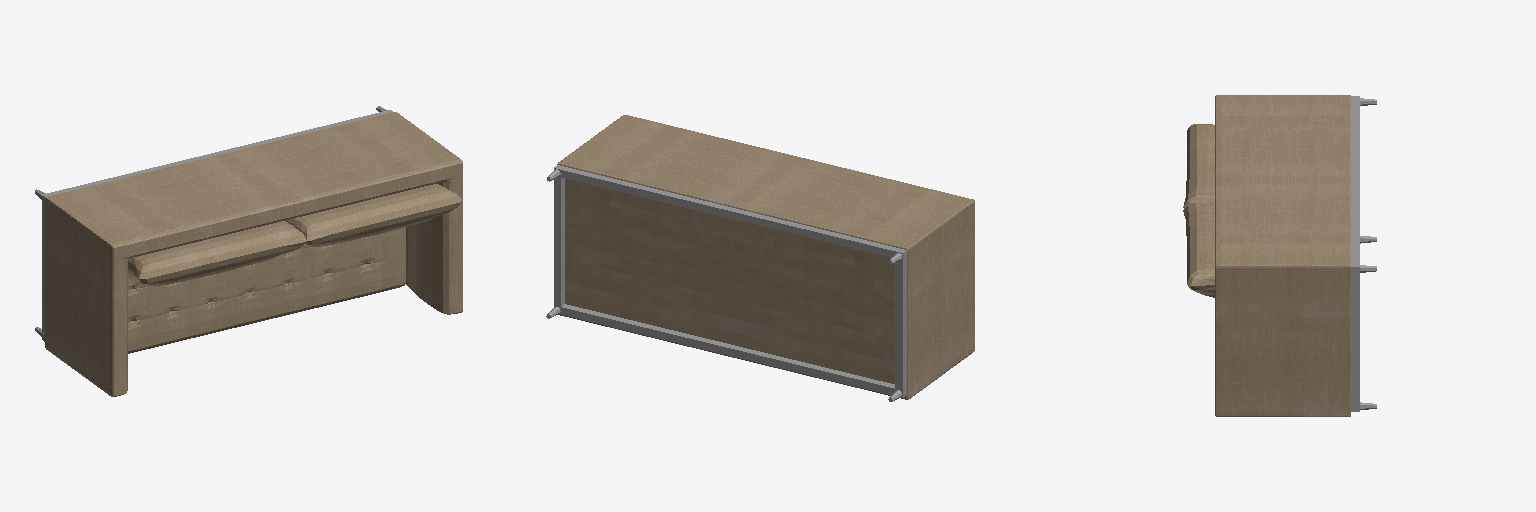
The picture shows the model from 3 angles: view 1: azimuth 30°, elevation 25°; view 2: azimuth 150°, elevation 25°; view 3: azimuth 270°, elevation 25°; orthographic projection.
Parts seen in each view (by area): view 1: Cube_Cube.001, Cube.001_Cube.004, Cube.002_Cube.005, Cube.003_Cube.006, Cube.004_Cube.007; view 2: Cube_Cube.001, Cube.004_Cube.007; view 3: Cube_Cube.001, Cube.004_Cube.007, Cube.003_Cube.006, Cube.002_Cube.005.
Boxes of the visible parts, box(x1,y1,x2,y2) form: Cube_Cube.001: box(45, 112, 462, 396); Cube.001_Cube.004: box(128, 227, 405, 353); Cube.002_Cube.005: box(128, 221, 306, 286); Cube.003_Cube.006: box(285, 184, 461, 247); Cube.004_Cube.007: box(35, 106, 392, 341); Cube_Cube.001: box(557, 115, 974, 399); Cube.004_Cube.007: box(546, 165, 906, 401); Cube_Cube.001: box(1215, 95, 1350, 416); Cube.004_Cube.007: box(1351, 96, 1376, 411); Cube.003_Cube.006: box(1183, 203, 1214, 297); Cube.002_Cube.005: box(1183, 124, 1214, 208).
Bounding box in the file's own units: 71 × 29.4 × 33.9.
Materials: 2 (1 with a texture image).